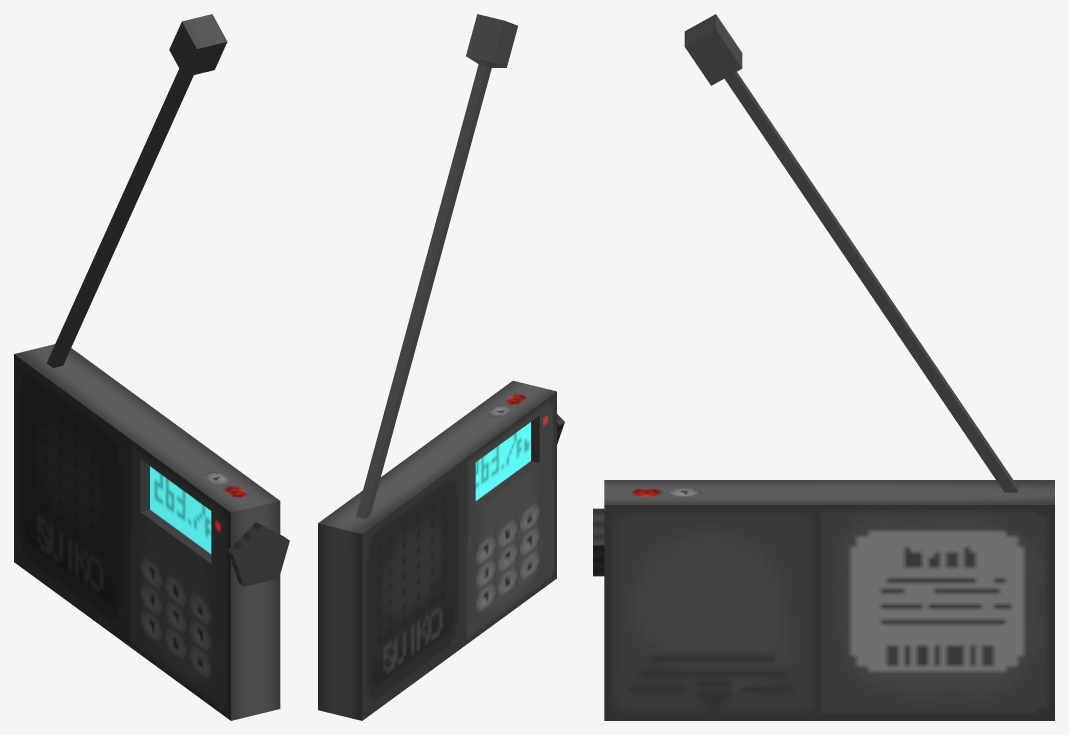
Rendered from radio.fbx.
3 renders of one model, left to right at view 1: azimuth 30°, elevation 25°; view 2: azimuth 150°, elevation 25°; view 3: azimuth 270°, elevation 25°, orthographic. The views are drawn at different scales.
Parts seen in each view (by area): view 1: radiobase, tenna; view 2: radiobase, tenna; view 3: radiobase, tenna.
Part boxes in pixels (x1,y1,x2,y2): radiobase: (14,344,289,720); tenna: (47,14,227,367); radiobase: (318,380,564,720); tenna: (356,14,517,518); radiobase: (593,480,1054,720); tenna: (684,14,1018,492).
Size of the model in its own units: 57.06 by 633 by 387.
1 material, 1 textured.
